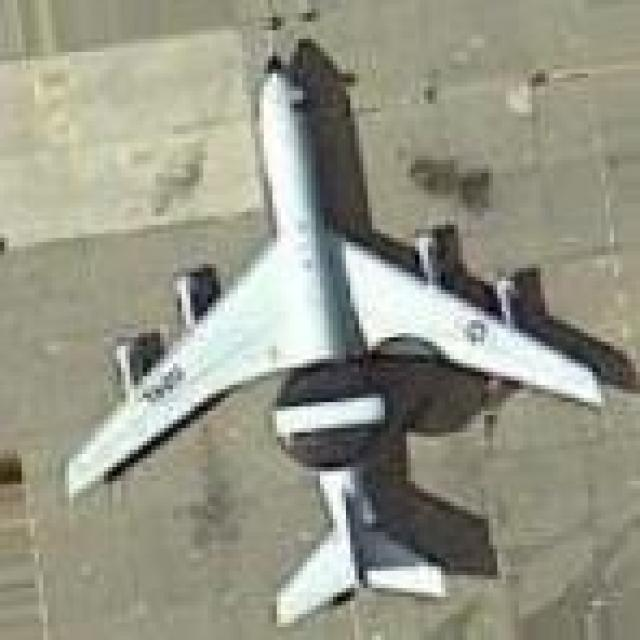E-3_TopDown: (56, 30, 636, 627)
